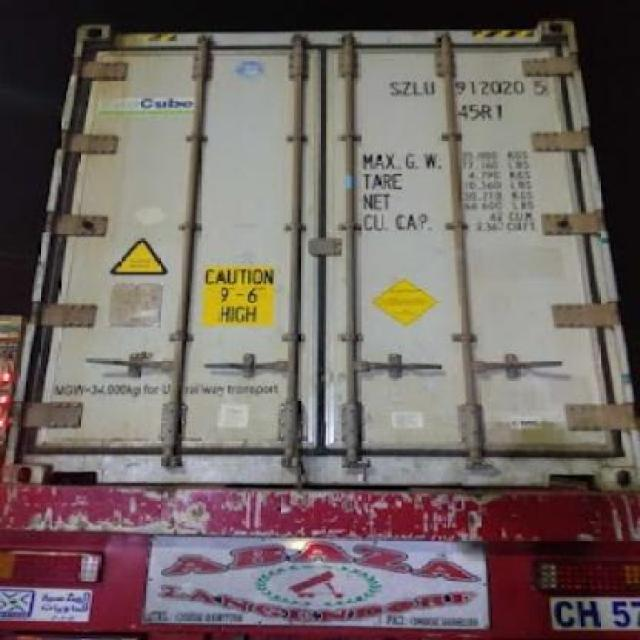ISO: (458, 100, 506, 122)
container_number: (388, 76, 550, 100)
